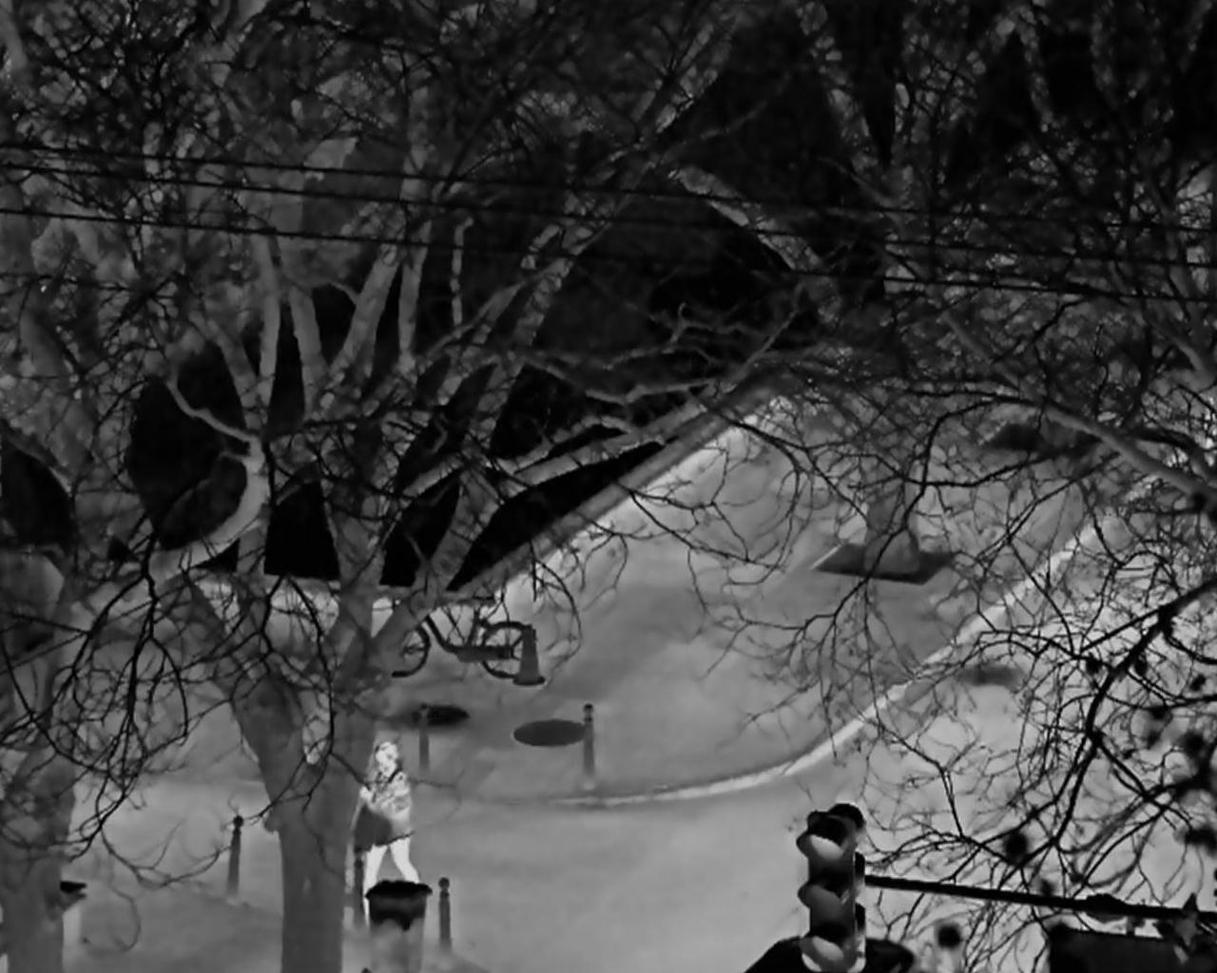person: (359, 742, 421, 930)
